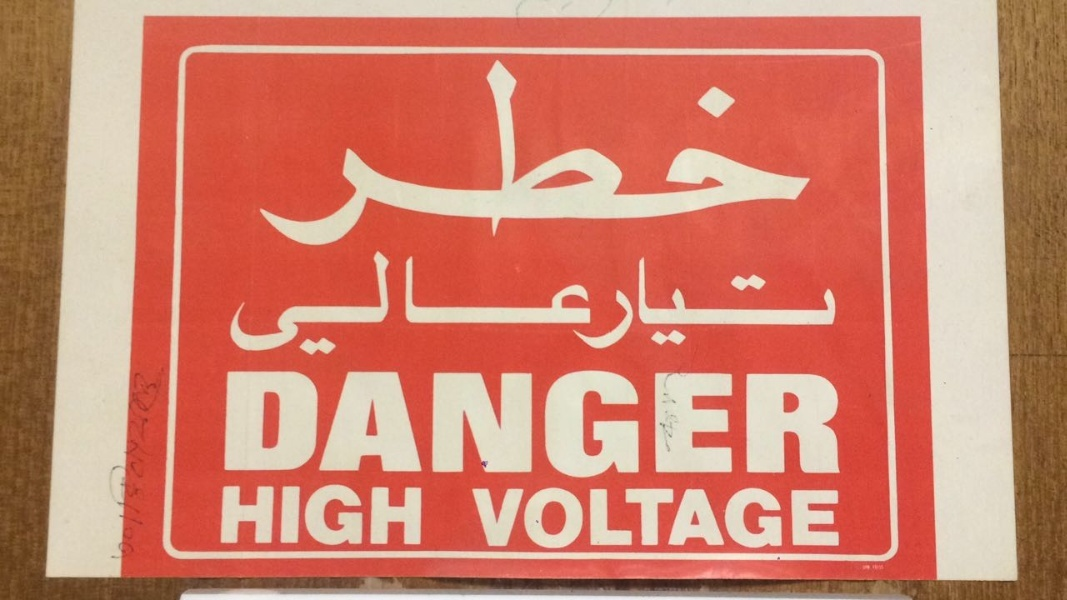text: (129, 369, 144, 565), (145, 369, 160, 565), (273, 58, 288, 246), (289, 58, 304, 246), (305, 58, 320, 246), (321, 58, 336, 246), (337, 58, 352, 246), (353, 58, 368, 246), (369, 58, 384, 246), (385, 58, 400, 246), (401, 58, 416, 246), (417, 58, 432, 246), (433, 58, 448, 246), (449, 58, 464, 246), (465, 58, 480, 246), (481, 58, 496, 246), (497, 58, 512, 246), (513, 58, 528, 246), (529, 58, 544, 246), (545, 58, 560, 246), (561, 58, 576, 246), (577, 58, 592, 246), (593, 58, 608, 246), (609, 58, 624, 246), (625, 58, 640, 246), (641, 58, 656, 246), (657, 58, 672, 246), (673, 58, 688, 246), (689, 58, 704, 246), (705, 58, 720, 246), (721, 58, 736, 246), (737, 58, 752, 246), (753, 58, 768, 246), (769, 58, 784, 246), (785, 58, 800, 246), (801, 58, 812, 246), (262, 58, 272, 246), (119, 369, 128, 565), (225, 248, 240, 365), (241, 248, 256, 365), (257, 248, 272, 365), (273, 248, 288, 365), (289, 248, 304, 365), (305, 248, 320, 365), (321, 248, 336, 365), (337, 248, 352, 365), (353, 248, 368, 365), (369, 248, 384, 365), (385, 248, 400, 365), (401, 248, 416, 365), (417, 248, 432, 365), (433, 248, 448, 365), (449, 248, 464, 365), (465, 248, 480, 365), (481, 248, 496, 365), (497, 248, 512, 365), (513, 248, 528, 365), (529, 248, 544, 365), (545, 248, 560, 365), (561, 248, 576, 365), (577, 248, 592, 365), (225, 368, 240, 481), (241, 368, 256, 481), (257, 368, 272, 481), (273, 368, 288, 481), (289, 368, 304, 481), (305, 368, 320, 481), (321, 368, 336, 481), (337, 368, 352, 481), (353, 368, 368, 481), (369, 368, 384, 481), (385, 368, 400, 481), (401, 368, 416, 481), (417, 368, 432, 481), (433, 368, 448, 481), (449, 368, 464, 481), (465, 368, 480, 481), (481, 368, 496, 481), (497, 368, 512, 481), (513, 368, 528, 481), (529, 368, 544, 481), (545, 368, 560, 481), (561, 368, 576, 481), (577, 368, 592, 481), (593, 368, 608, 481), (609, 368, 624, 481), (625, 368, 640, 481), (641, 368, 656, 481), (657, 368, 672, 481), (673, 368, 688, 481), (689, 368, 704, 481), (705, 368, 720, 481), (721, 368, 736, 481), (737, 368, 752, 481), (753, 368, 768, 481), (769, 368, 784, 481), (785, 368, 800, 481), (801, 368, 816, 481), (817, 368, 832, 481), (641, 256, 656, 351), (657, 256, 672, 351), (673, 256, 688, 351), (689, 256, 704, 351), (705, 256, 720, 351), (721, 256, 736, 351), (737, 256, 752, 351), (753, 256, 768, 351), (769, 256, 784, 351), (785, 256, 800, 351), (801, 256, 816, 351), (817, 256, 832, 351), (833, 368, 842, 481), (481, 485, 496, 552), (497, 485, 512, 552), (513, 485, 528, 552), (529, 485, 544, 552), (545, 485, 560, 552), (561, 485, 576, 552), (577, 485, 592, 552), (593, 485, 608, 552), (609, 485, 624, 552), (625, 485, 640, 552), (641, 485, 656, 552), (657, 485, 672, 552), (673, 485, 688, 552), (689, 485, 704, 552), (705, 485, 720, 552), (721, 485, 736, 552), (737, 485, 752, 552), (753, 485, 768, 552), (769, 485, 784, 552), (785, 485, 800, 552), (801, 485, 816, 552), (817, 485, 832, 552), (225, 483, 240, 547), (241, 483, 256, 547), (257, 483, 272, 547), (273, 483, 288, 547), (289, 483, 304, 547), (305, 483, 320, 547), (321, 483, 336, 547), (337, 483, 352, 547), (353, 483, 368, 547), (369, 483, 384, 547), (385, 483, 400, 547), (401, 483, 416, 547), (833, 485, 847, 552), (161, 369, 165, 565), (663, 374, 672, 456), (470, 485, 480, 552), (833, 256, 840, 351), (673, 374, 680, 456), (417, 483, 425, 547), (221, 483, 224, 547), (593, 248, 594, 365), (639, 256, 640, 351)
